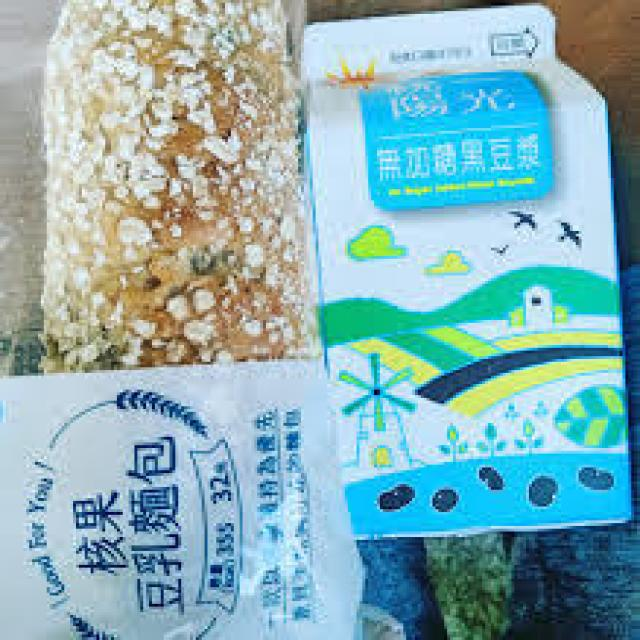TongYi_UnsweetenedBlackSoyMilk: (299, 6, 640, 552)
